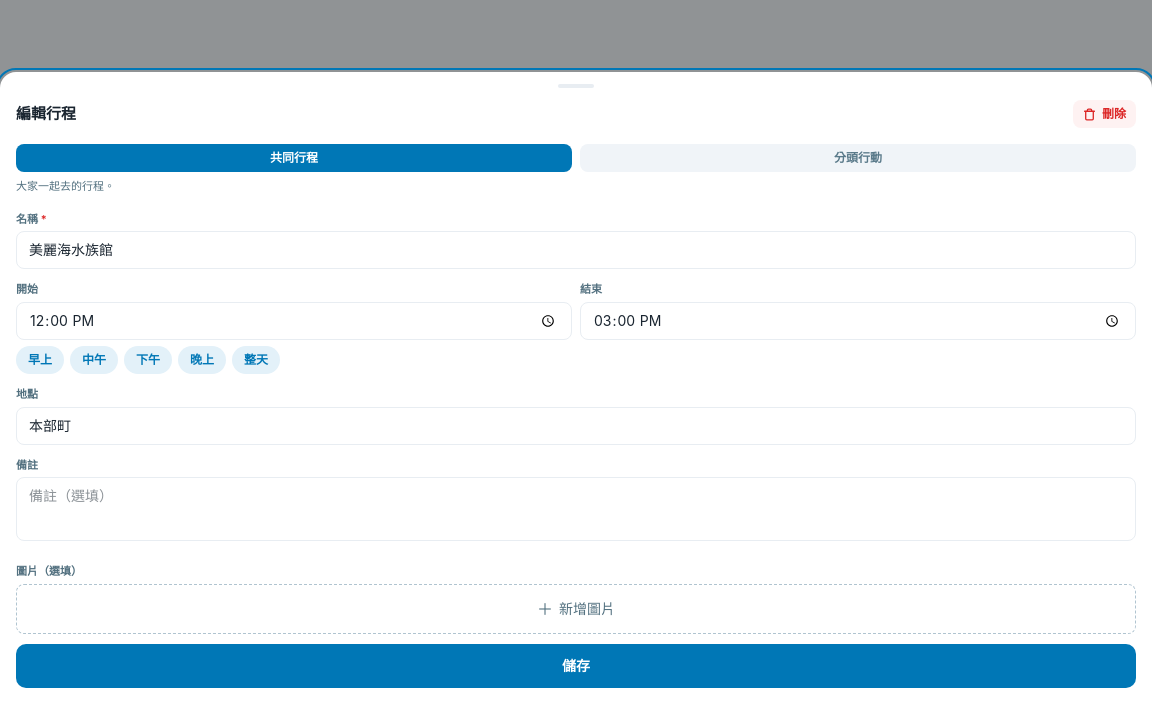
Test case: EventSheet › confirms deletion through ConfirmSheet, not window.confirm
Step 1. Click the button "刪除" → (1104, 114), box [1073, 100, 1136, 128]
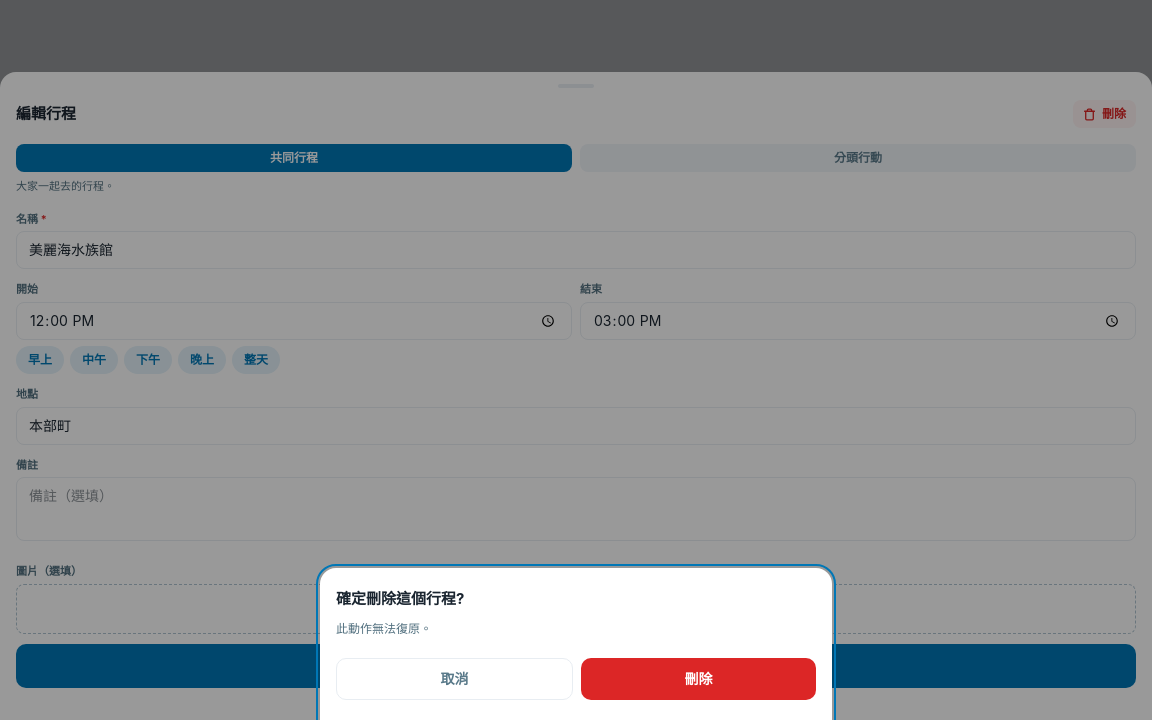
Result: the text "確定刪除這個行程?" is shown at [336, 589, 464, 608]
